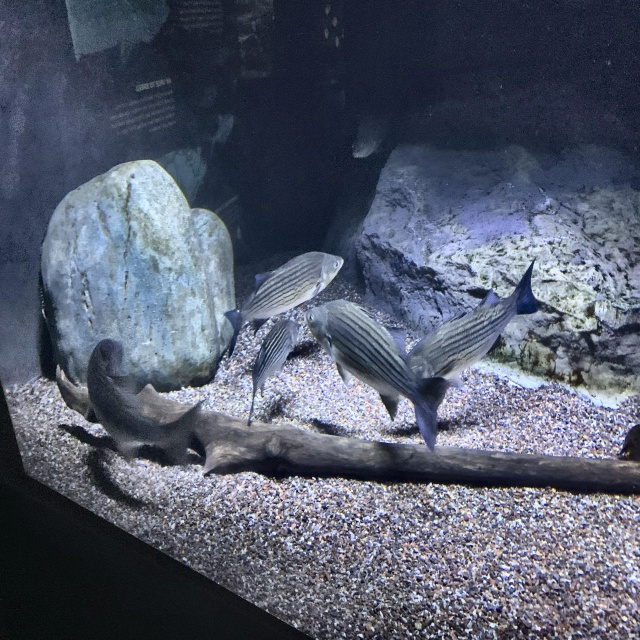fish: (304, 297, 459, 456), (400, 256, 546, 392), (82, 337, 208, 470), (222, 248, 346, 362), (247, 319, 303, 429), (351, 105, 393, 161)
